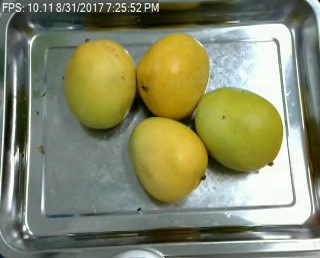Mango: (194, 87, 283, 171), (137, 31, 210, 121), (131, 117, 207, 201), (63, 40, 135, 128)
